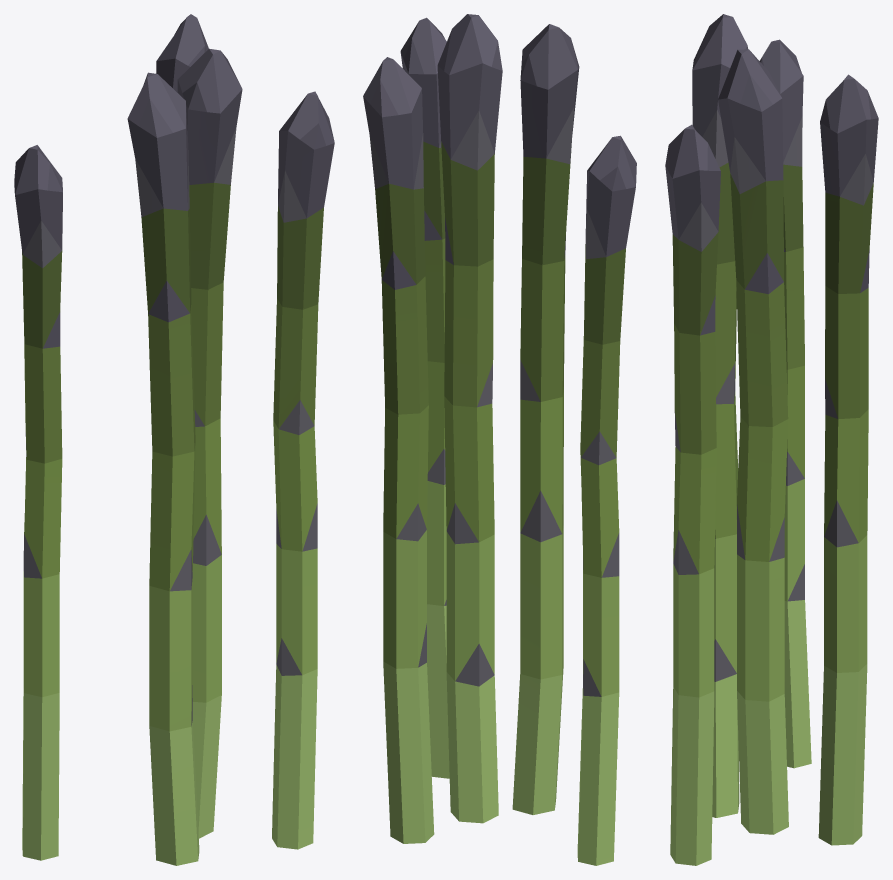
File: asparagus_plant.glb
3 views of the same model, side by side, from view 1: azimuth 30°, elevation 25°; view 2: azimuth 150°, elevation 25°; view 3: azimuth 270°, elevation 25° (orthographic).
Visible parts, largest first — view 1: SM_Prop_Asparagus_01_L; view 2: SM_Prop_Asparagus_01_L; view 3: SM_Prop_Asparagus_01_L.
Part boxes in pixels (left/top/right/bottom): SM_Prop_Asparagus_01_L: left=14, top=14, right=334, bottom=865; SM_Prop_Asparagus_01_L: left=363, top=14, right=636, bottom=865; SM_Prop_Asparagus_01_L: left=665, top=14, right=878, bottom=865.
Bounding box in the file's own units: 0.1646 × 0.4493 × 0.1112.
Materials: 1 (1 with a texture image).
